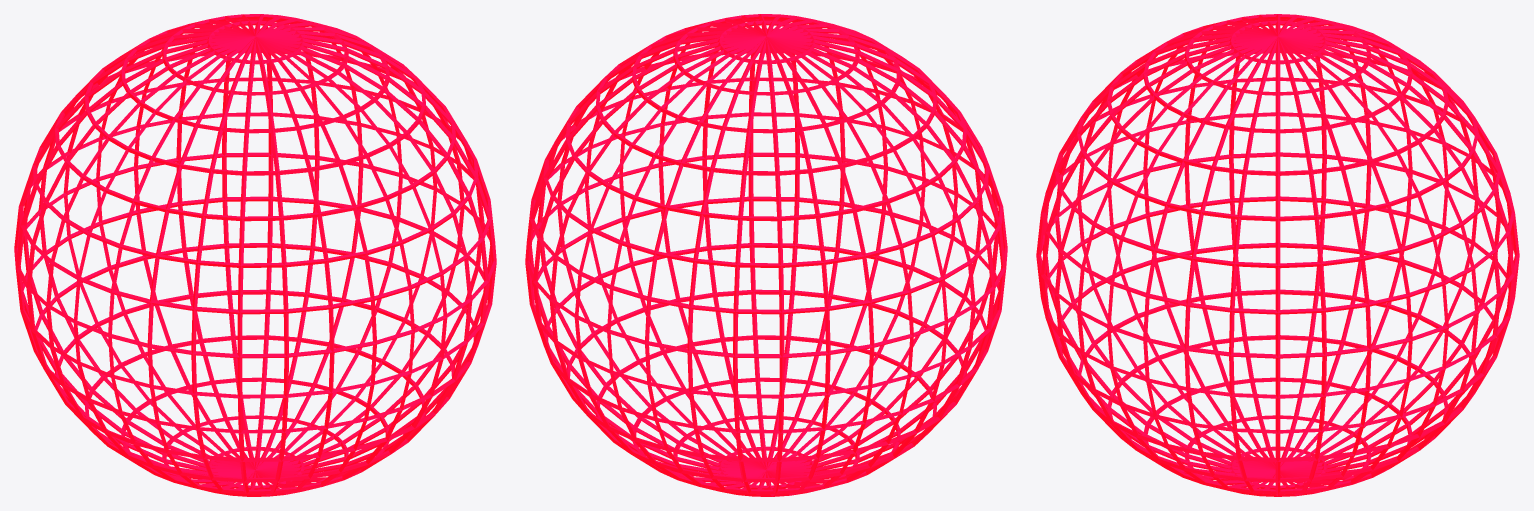
The model's file is wireframe_3d_globe-D_5nnBfJ.glb.
The picture shows the model from 3 angles, left to right: view 1: azimuth 30°, elevation 25°; view 2: azimuth 150°, elevation 25°; view 3: azimuth 270°, elevation 25°; orthographic projection.
Visible parts, largest first — view 1: Globe_3D_Modelobjcleanermaterialmergergles; view 2: Globe_3D_Modelobjcleanermaterialmergergles; view 3: Globe_3D_Modelobjcleanermaterialmergergles.
Boxes of the visible parts, box(x1,y1,x2,y2) form: Globe_3D_Modelobjcleanermaterialmergergles: box(14, 14, 496, 496); Globe_3D_Modelobjcleanermaterialmergergles: box(525, 14, 1007, 496); Globe_3D_Modelobjcleanermaterialmergergles: box(1036, 14, 1519, 496).
Size of the model in its own units: 101 by 101 by 101.
